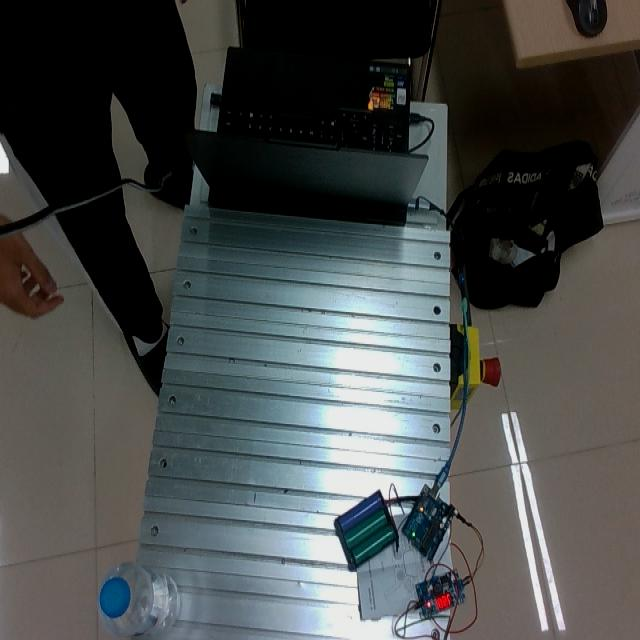lavie: (97, 562, 181, 638)
